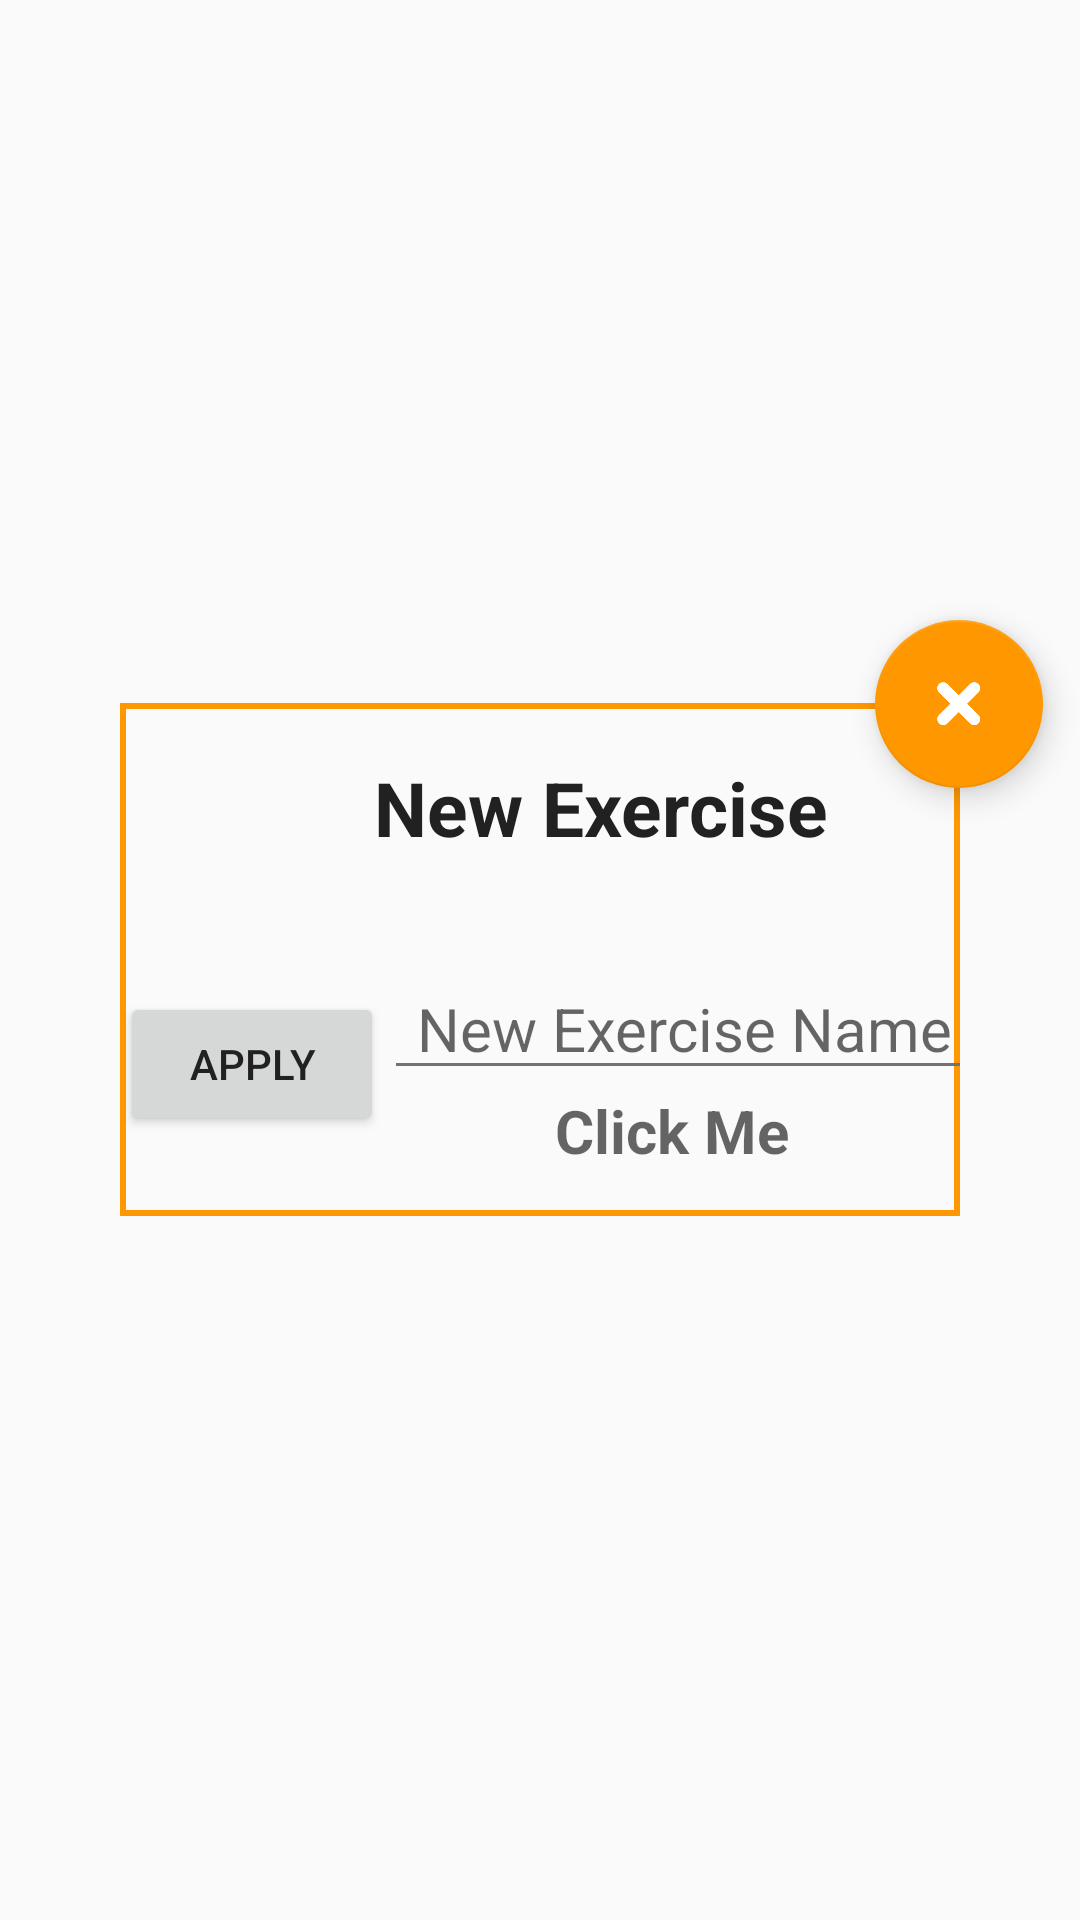

Named icons in this screenshot (1080x1920) and their bounding boxes, (x1, y1, x2, y2):
closecross: (875, 620, 1043, 788)
